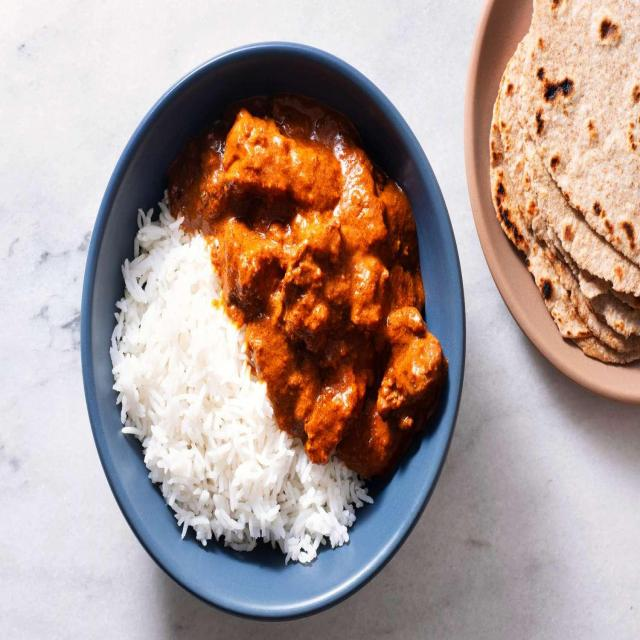chicken: (207, 100, 431, 433)
rice: (114, 244, 287, 558)
roti: (482, 11, 640, 353)
